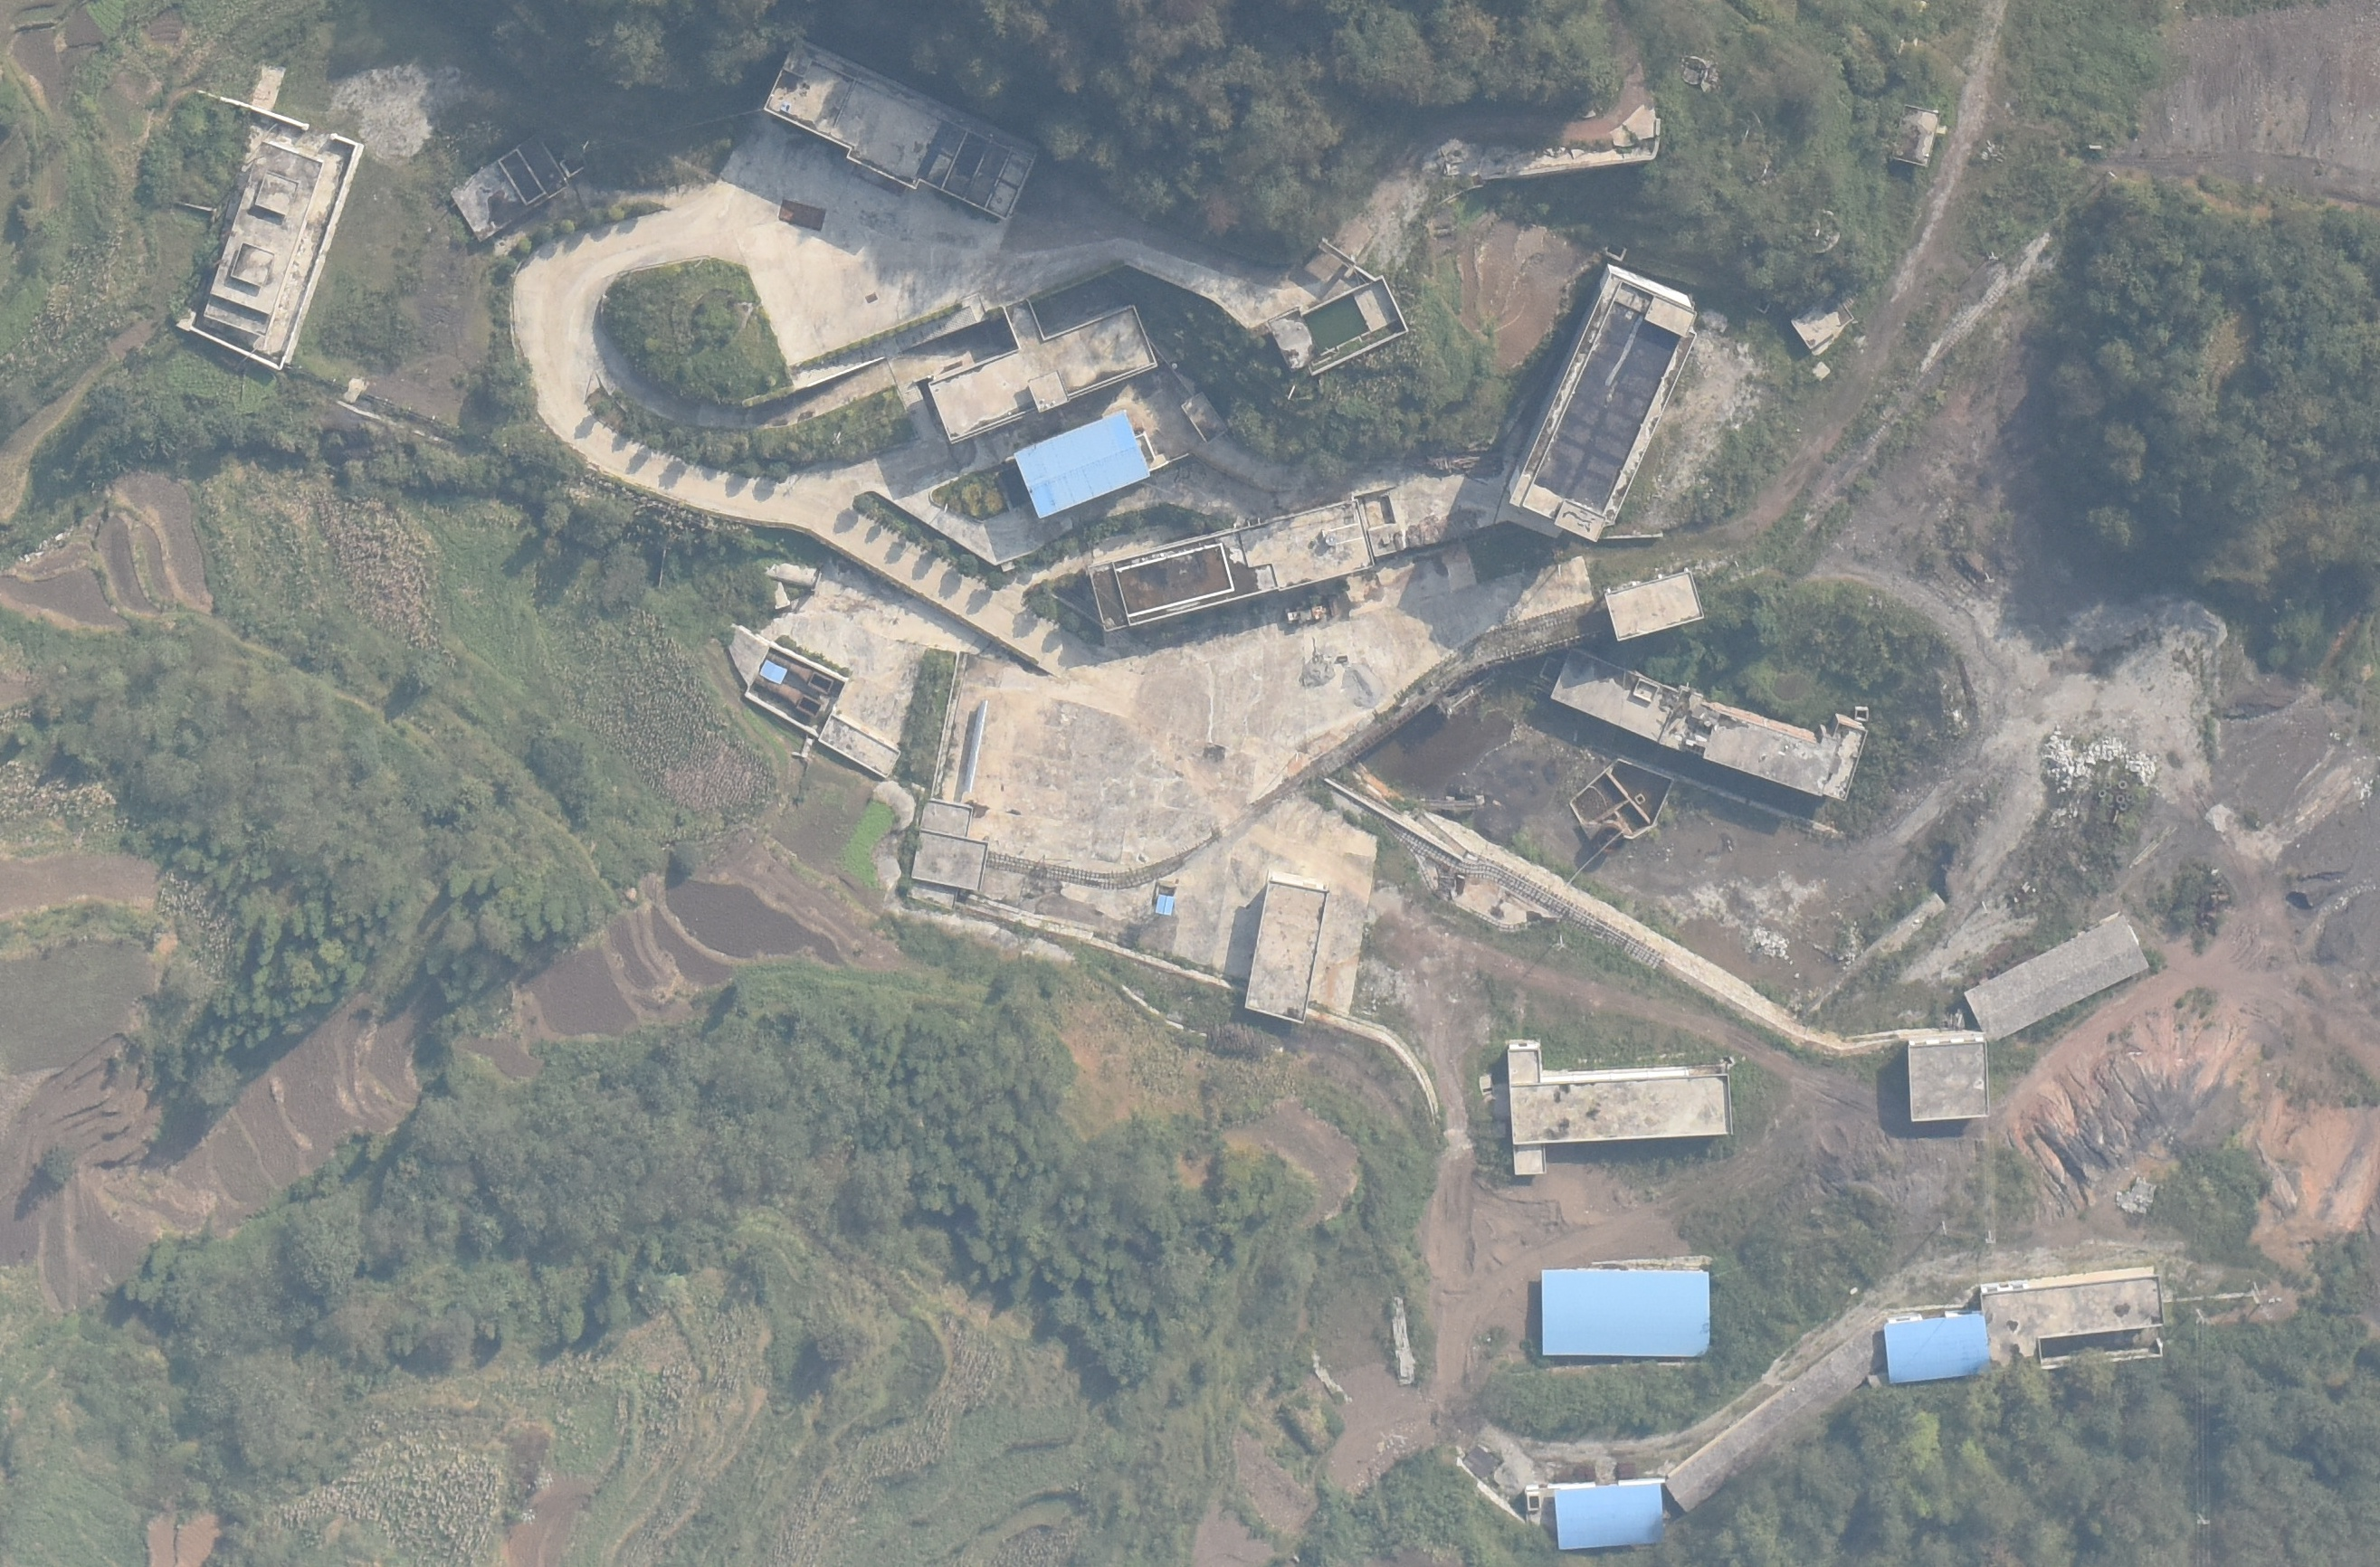building: (1567, 635, 1911, 815), (1502, 224, 1693, 547), (755, 16, 1049, 226), (1464, 1027, 1764, 1168), (1079, 493, 1385, 631), (925, 296, 1172, 442), (1952, 901, 2174, 1034), (205, 135, 324, 338), (1978, 1268, 2170, 1366), (448, 128, 584, 250), (1878, 1023, 2016, 1142), (1242, 876, 1326, 1028), (911, 790, 986, 908), (822, 708, 906, 782), (1791, 294, 1859, 353), (1890, 103, 1938, 168)
pool: (1254, 283, 1423, 374)
prefabricated-house: (1537, 1261, 1707, 1361), (1009, 409, 1154, 516), (1520, 1476, 1681, 1548), (1880, 1317, 1994, 1385), (750, 659, 792, 686), (1152, 892, 1180, 920)
